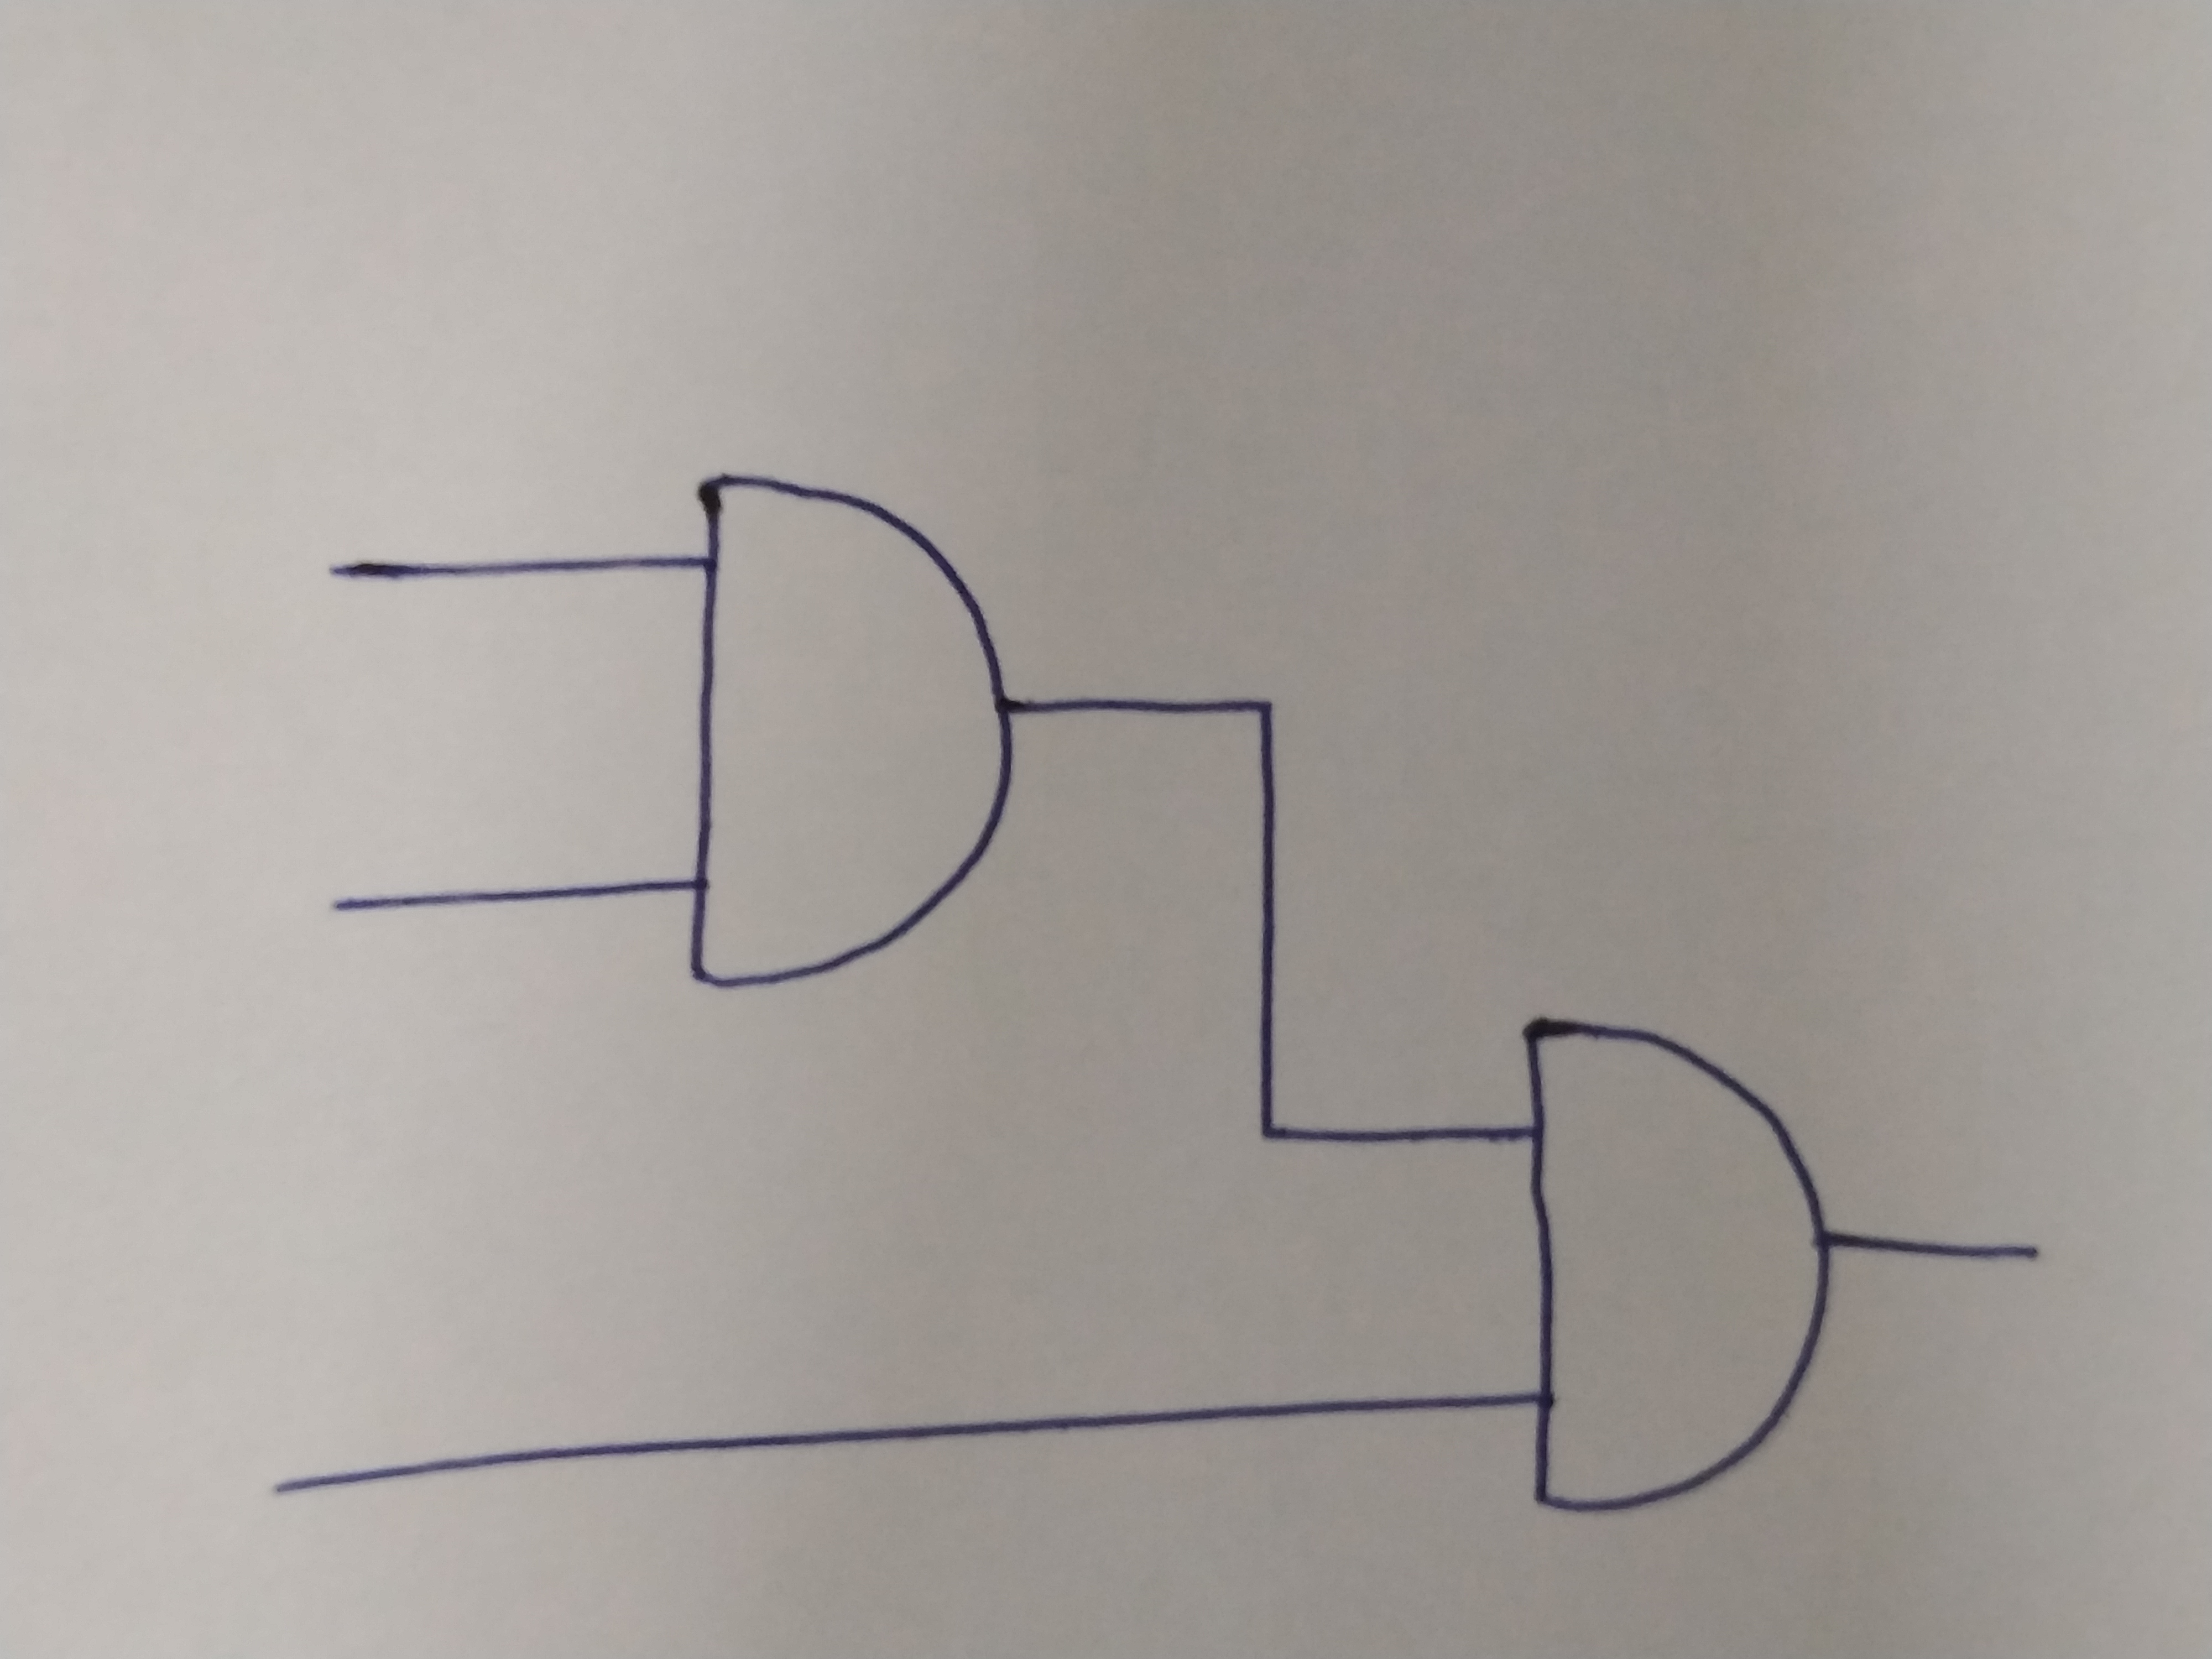and: (700, 474, 1001, 983), (1524, 1011, 1820, 1506)
